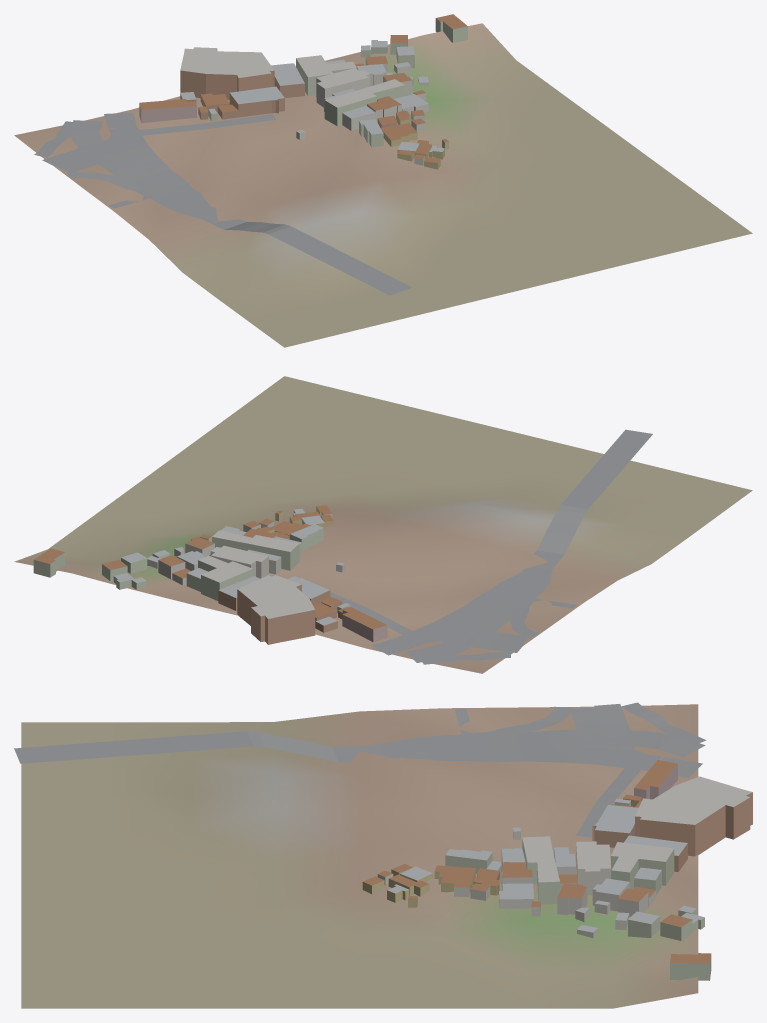
3 views of the same model, one above another, from view 1: azimuth 30°, elevation 25°; view 2: azimuth 150°, elevation 25°; view 3: azimuth 270°, elevation 25° (orthographic). The views are drawn at different scales.
Parts seen in each view (by area): view 1: Lo; view 2: Lo; view 3: Lo.
Boxes of the visible parts, x1,y1,x2,y2 form: Lo: (14,14,752,347); Lo: (14,376,752,673); Lo: (14,702,752,1008).
Size of the model in its own units: 258 by 19.98 by 279.
